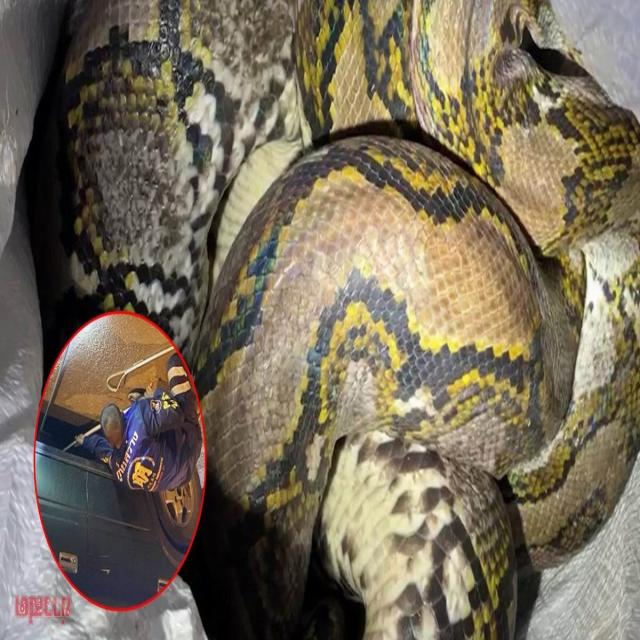Non-Venomous: (165, 15, 640, 605)
